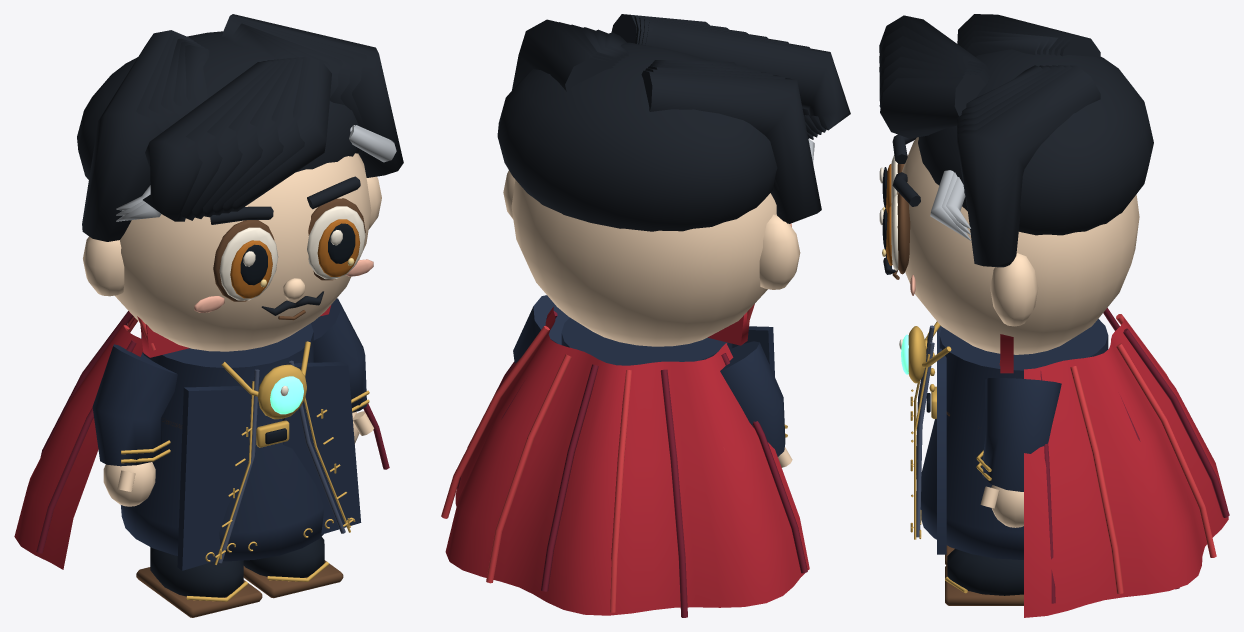
Rendered from sorcerer.glb.
The picture shows the model from 3 angles, left to right: view 1: azimuth 30°, elevation 25°; view 2: azimuth 150°, elevation 25°; view 3: azimuth 270°, elevation 25°; orthographic projection. The views are drawn at different scales.
Visible parts, largest first — view 1: dz_sorcerer@head, dz_sorcerer@body, dz_sorcerer_sleeve_l@arm-left, dz_sorcerer_l@leg-left, dz_sorcerer_sleeve_r@arm-right, dz_sorcerer_r@leg-right; view 2: dz_sorcerer@head, dz_sorcerer@body, dz_sorcerer_sleeve_l@arm-left, dz_sorcerer_sleeve_r@arm-right; view 3: dz_sorcerer@head, dz_sorcerer@body, dz_sorcerer_sleeve_r@arm-right, dz_sorcerer_r@leg-right.
Part boxes in pixels (box(x1,y1,x2,y2)): dz_sorcerer@head: box(77, 14, 403, 351); dz_sorcerer@body: box(14, 305, 389, 570); dz_sorcerer_sleeve_l@arm-left: box(92, 344, 177, 506); dz_sorcerer_l@leg-left: box(136, 547, 262, 617); dz_sorcerer_sleeve_r@arm-right: box(311, 298, 373, 443); dz_sorcerer_r@leg-right: box(243, 536, 343, 598); dz_sorcerer@head: box(497, 14, 850, 346); dz_sorcerer@body: box(441, 304, 809, 617); dz_sorcerer_sleeve_l@arm-left: box(720, 341, 792, 467); dz_sorcerer_sleeve_r@arm-right: box(513, 295, 569, 363); dz_sorcerer@head: box(879, 14, 1153, 354); dz_sorcerer@body: box(899, 308, 1229, 617); dz_sorcerer_sleeve_r@arm-right: box(976, 378, 1061, 527); dz_sorcerer_r@leg-right: box(945, 549, 1023, 605).
Size of the model in its own units: 1.7 by 2.4 by 1.45.
